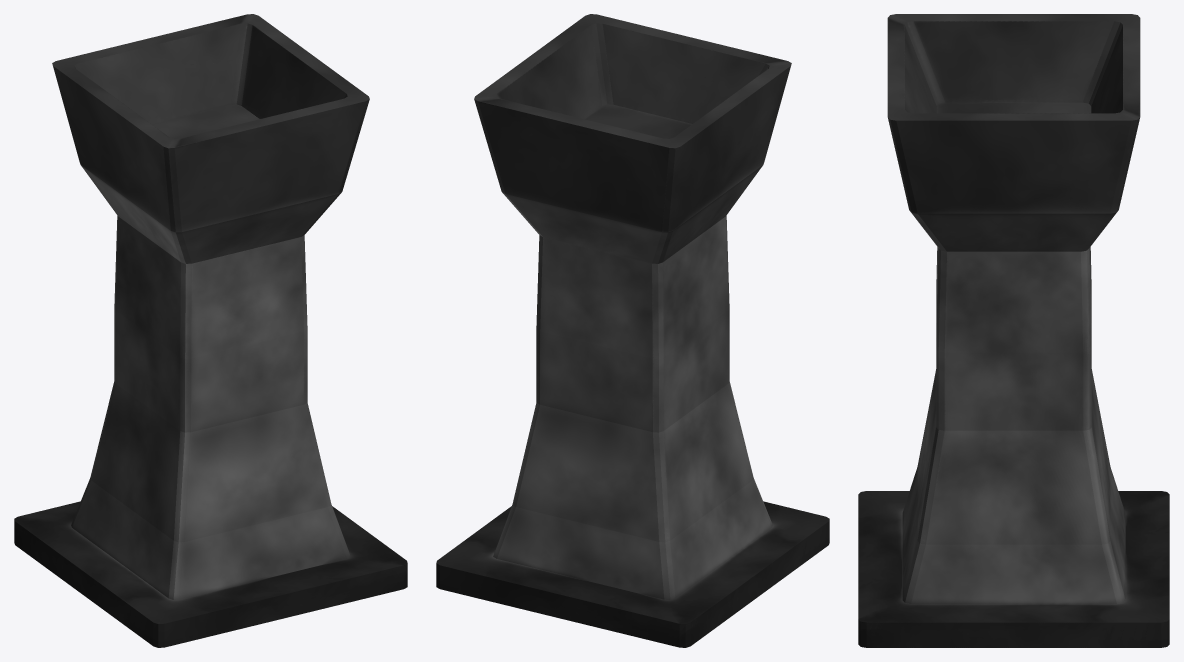
3 renders of one model, left to right at view 1: azimuth 30°, elevation 25°; view 2: azimuth 150°, elevation 25°; view 3: azimuth 270°, elevation 25°, orthographic. The views are drawn at different scales.
Visible parts, largest first — view 1: Lamp Pillar_0; view 2: Lamp Pillar_0; view 3: Lamp Pillar_0.
Part boxes in pixels (<box>): Lamp Pillar_0: <box>14,14,407,647</box>; Lamp Pillar_0: <box>436,14,829,647</box>; Lamp Pillar_0: <box>858,14,1169,647</box>.
Size of the model in its own units: 1.98 by 3.62 by 1.98.
Materials: 1 (1 with a texture image).
